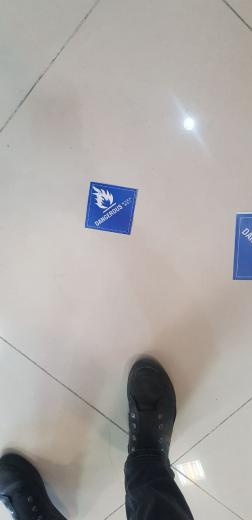Dangerous when wet: (85, 182, 138, 235), (233, 213, 252, 280)
